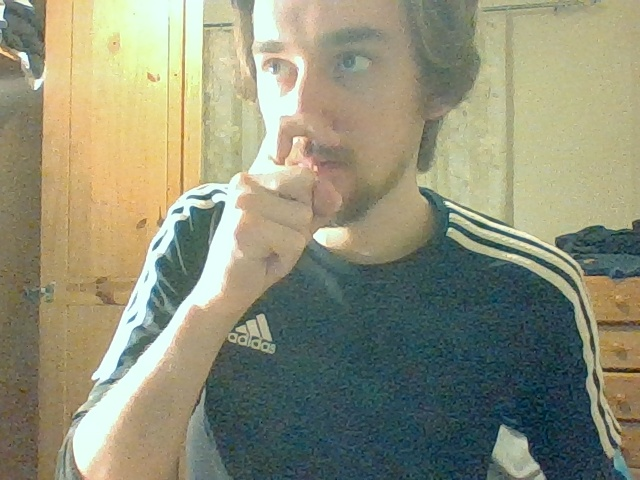sister: (224, 112, 343, 284)
